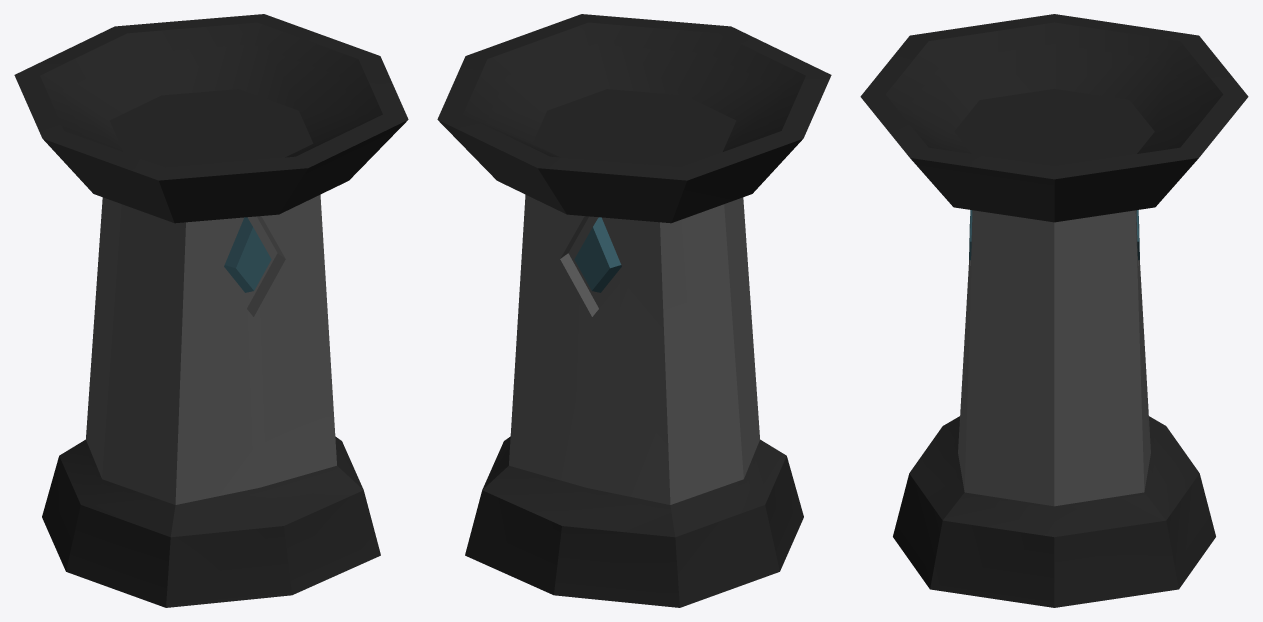
The model's file is Altar_round_C.fbx.
3 renders of one model, left to right at view 1: azimuth 30°, elevation 25°; view 2: azimuth 150°, elevation 25°; view 3: azimuth 270°, elevation 25°, orthographic.
Parts seen in each view (by area): view 1: Altar_round_C; view 2: Altar_round_C; view 3: Altar_round_C.
Part boxes in pixels (box(x1,y1,x2,y2)): Altar_round_C: box(14, 14, 408, 607); Altar_round_C: box(437, 14, 831, 607); Altar_round_C: box(860, 14, 1248, 607).
Bounding box in the file's own units: 79.52 × 99.18 × 78.88.
